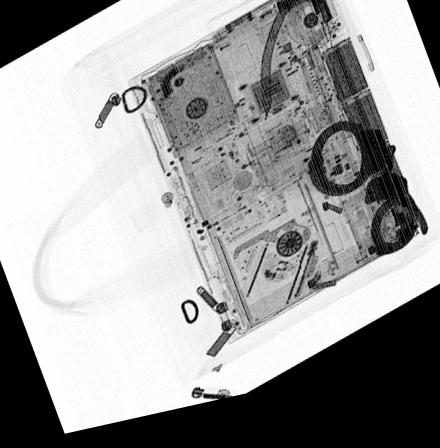HandCuffs: (302, 133, 430, 274)
